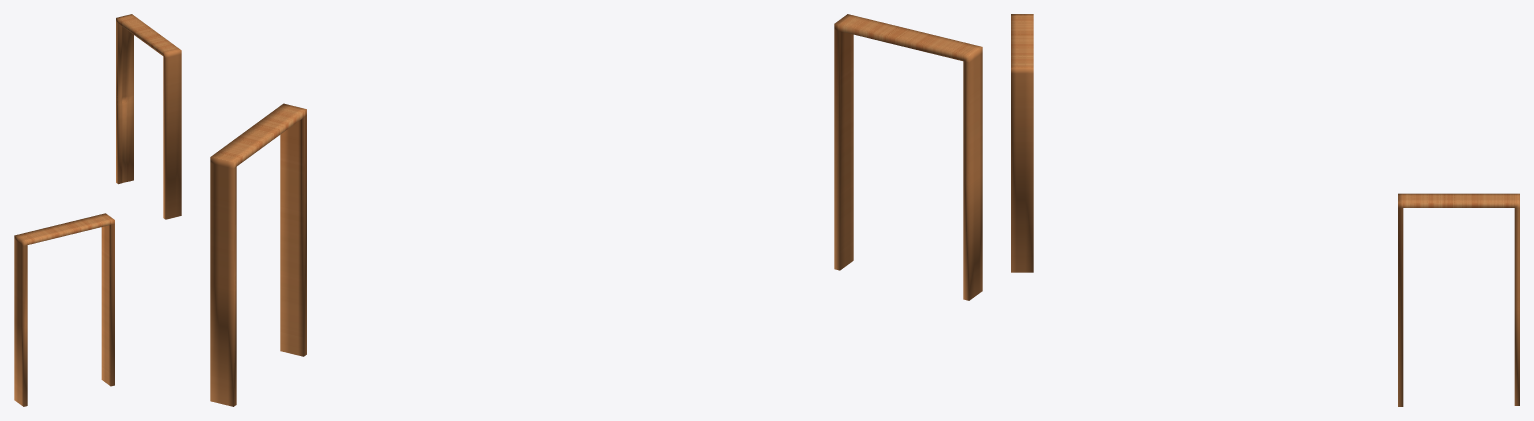
The model's file is Puerta.obj.
3 views of the same model, side by side, from view 1: azimuth 30°, elevation 25°; view 2: azimuth 150°, elevation 25°; view 3: azimuth 270°, elevation 25° (orthographic). The views are drawn at different scales.
Visible parts, largest first — view 1: OutBoddy_Cube.002, OutBoddy.001_Cube.005; view 2: OutBoddy_Cube.002, OutBoddy.001_Cube.005; view 3: OutBoddy.001_Cube.005, OutBoddy_Cube.002.
Boxes of the visible parts, left/top/right/bottom form: OutBoddy_Cube.002: left=116, top=14, right=181, bottom=219; OutBoddy.001_Cube.005: left=14, top=213, right=114, bottom=406; OutBoddy_Cube.002: left=210, top=103, right=306, bottom=406; OutBoddy.001_Cube.005: left=834, top=14, right=982, bottom=300; OutBoddy.001_Cube.005: left=1011, top=14, right=1033, bottom=272; OutBoddy_Cube.002: left=1398, top=193, right=1519, bottom=406.
Size of the model in its own units: 5.97 by 3 by 6.78.
2 materials, 2 textured.
